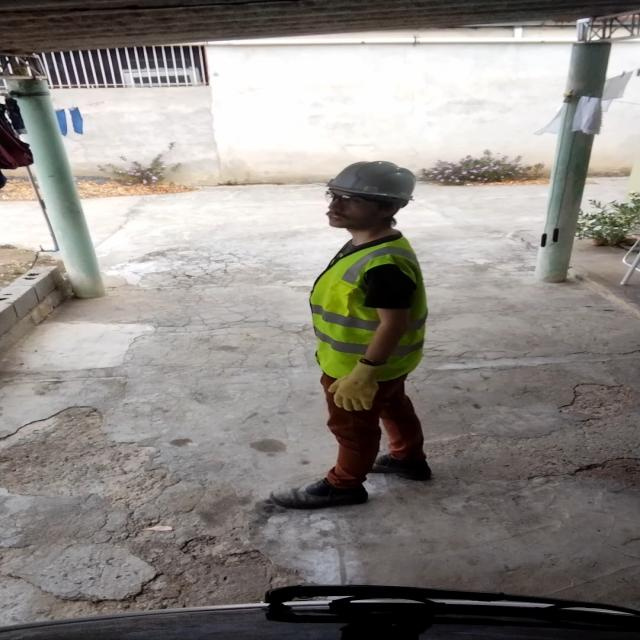glove: (326, 359, 397, 413)
helmet: (314, 160, 424, 211)
pants: (314, 372, 428, 471)
vest: (308, 227, 433, 378)
